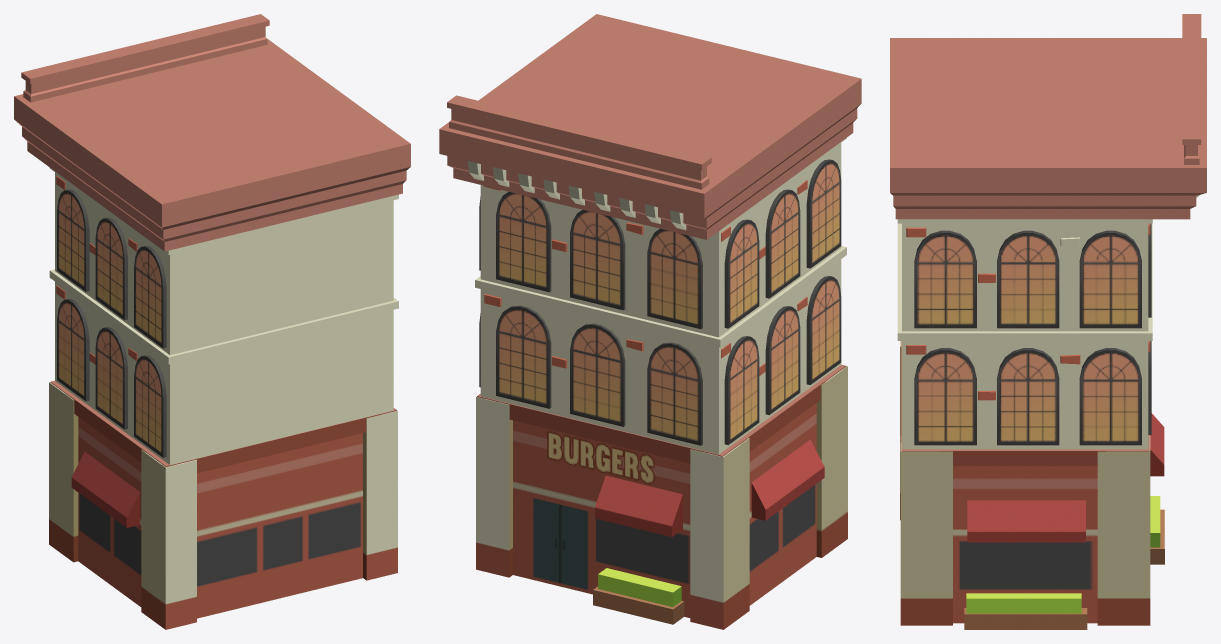
The model's file is BLD1210011.fbx.
The picture shows the model from 3 angles, left to right: view 1: azimuth 30°, elevation 25°; view 2: azimuth 150°, elevation 25°; view 3: azimuth 270°, elevation 25°; orthographic projection. The views are drawn at different scales.
Parts seen in each view (by area): view 1: smBLD1210011; view 2: smBLD1210011; view 3: smBLD1210011.
Part boxes in pixels (x1,y1,x2,y2): smBLD1210011: (14,14,410,629); smBLD1210011: (439,14,861,629); smBLD1210011: (890,14,1206,629).
Size of the model in its own units: 893 by 1555 by 915.
Materials: 1 (1 with a texture image).
